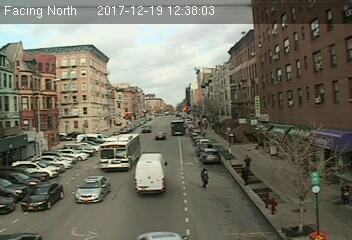bus: (97, 133, 143, 170)
car: (20, 183, 64, 212), (74, 175, 112, 204), (200, 145, 219, 163), (154, 132, 165, 141)
pedestrian: (198, 167, 211, 191)
truck: (135, 153, 168, 195)
ups: (170, 119, 186, 135)
